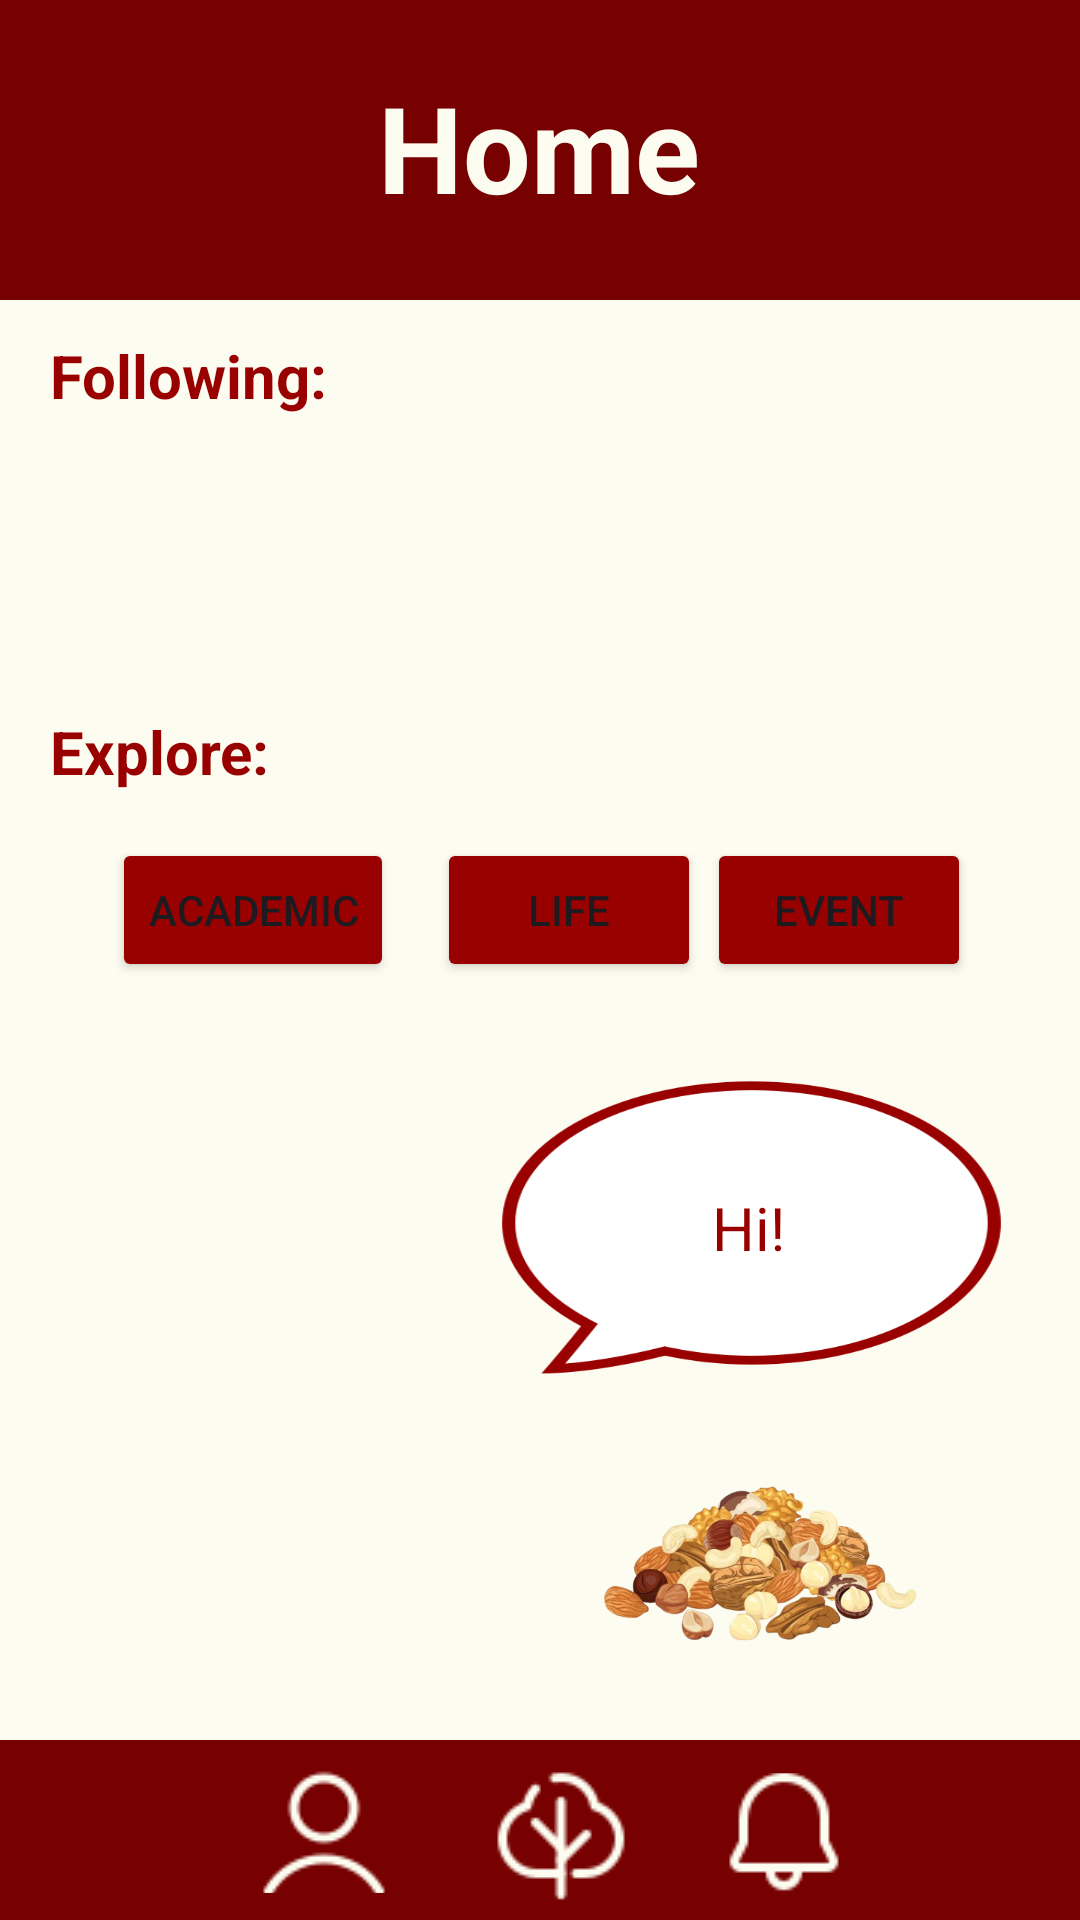

Named icons in this screenshot (1080 x 1920) and their centers, (x=x, y=y):
bell: (x=784, y=1832)
food: (x=760, y=1563)
profile: (x=324, y=1832)
tree: (x=561, y=1836)
